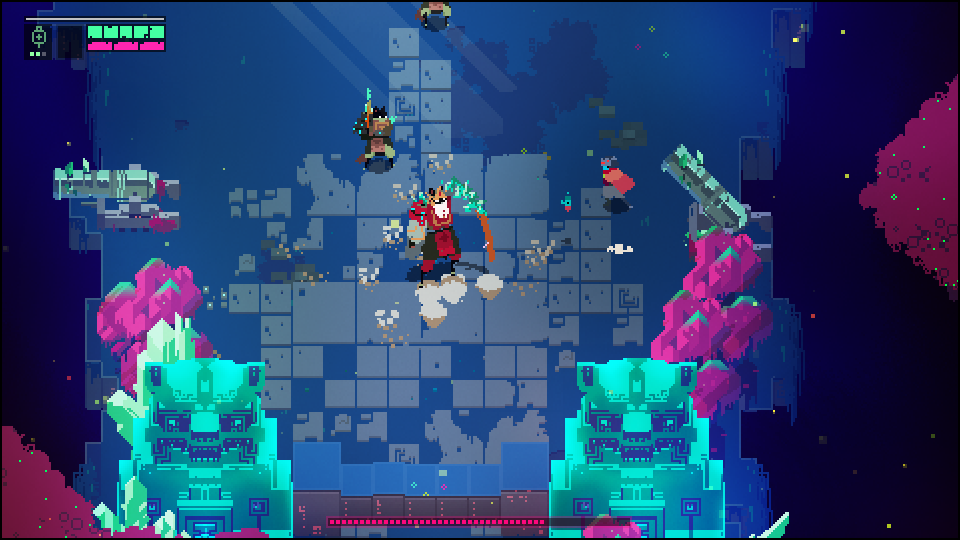hanged_man: (397, 179, 495, 281)
player: (598, 155, 635, 213)
